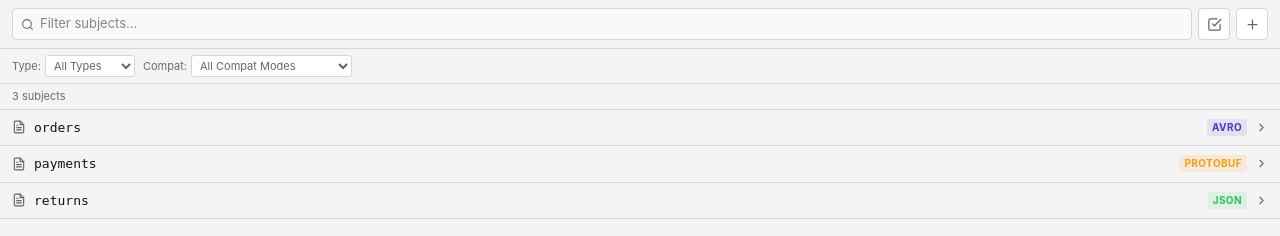
[@phase-12.6-schema-filter] SchemaList — type filter › filters by AVRO type using schemaTypeCache
The image size is (1280, 236).
Step 1. Select "AVRO" in the dropdown named "Filter by schema type" → (90, 66), box [45,55,135,77]
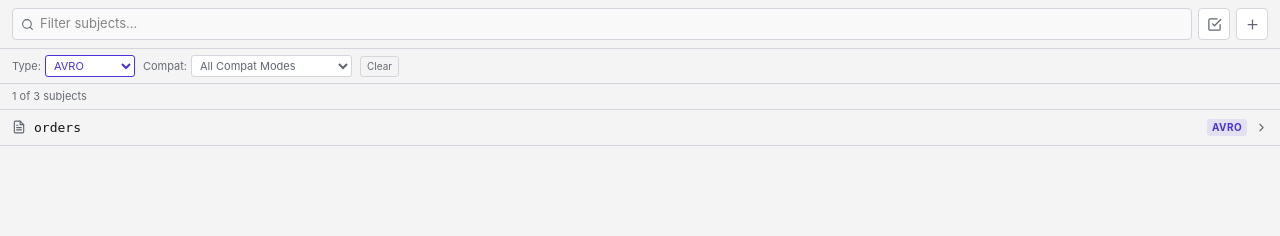
Expected: the text "orders" is shown, [34,120,81,134]
Expected: the text "payments" is gone
Expected: the text "returns" is gone
